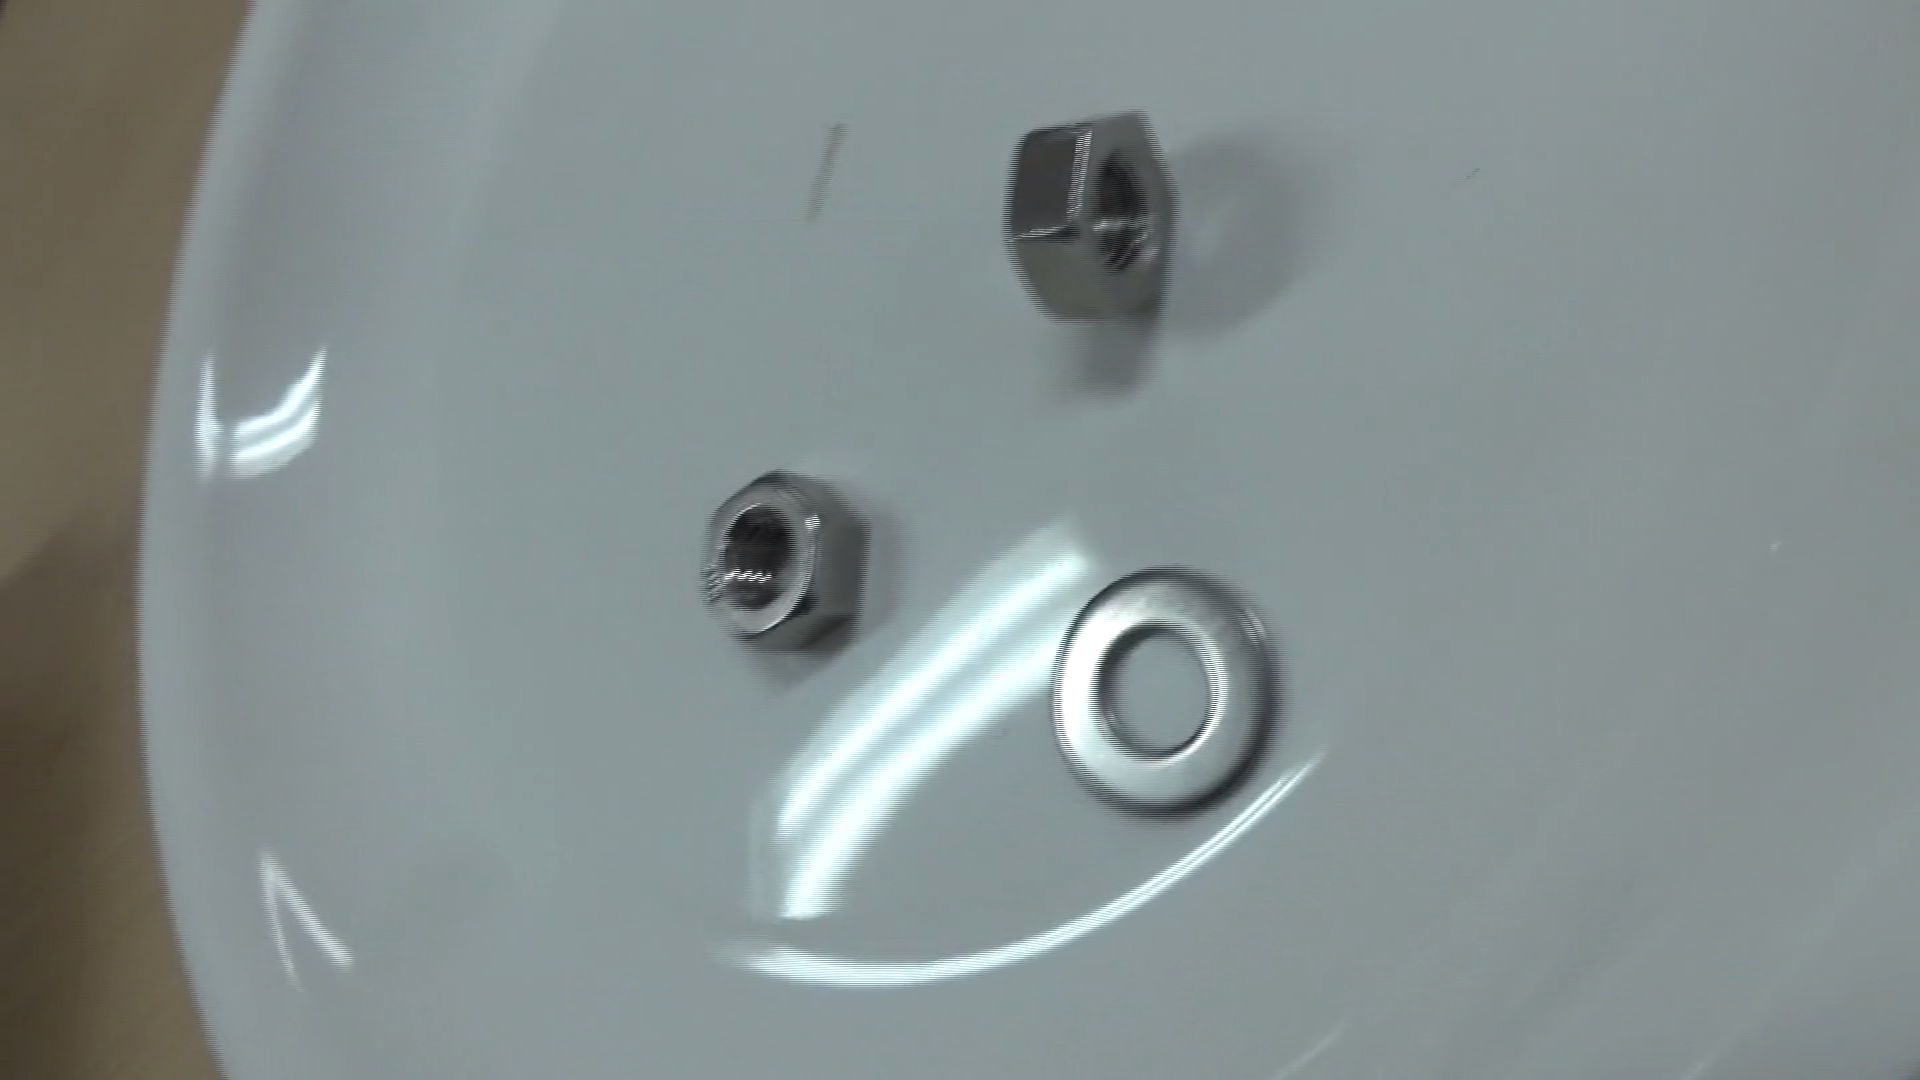nut: (969, 84, 1230, 345), (674, 451, 885, 680)
washer: (1033, 541, 1302, 824)
